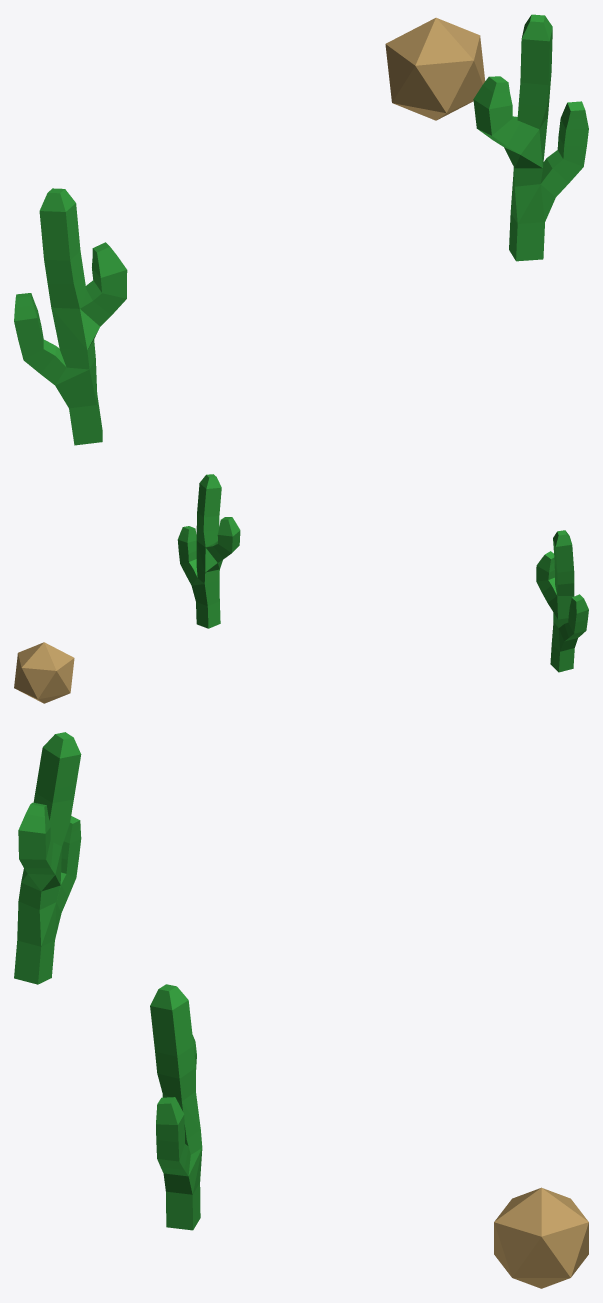
The model's file is cactus.glb.
3 renders of one model, top to bottom at view 1: azimuth 30°, elevation 25°; view 2: azimuth 150°, elevation 25°; view 3: azimuth 270°, elevation 25°, orthographic. The views are drawn at different scales.
Visible parts, largest first — view 1: Cube.029; view 2: Cube.029; view 3: Cube.029.
Boxes of the visible parts, x1,y1,x2,y2 form: Cube.029: (14,14,588,445); Cube.029: (14,474,588,703); Cube.029: (14,732,588,1288).
Size of the model in its own units: 2.01 by 0.7132 by 1.43.
